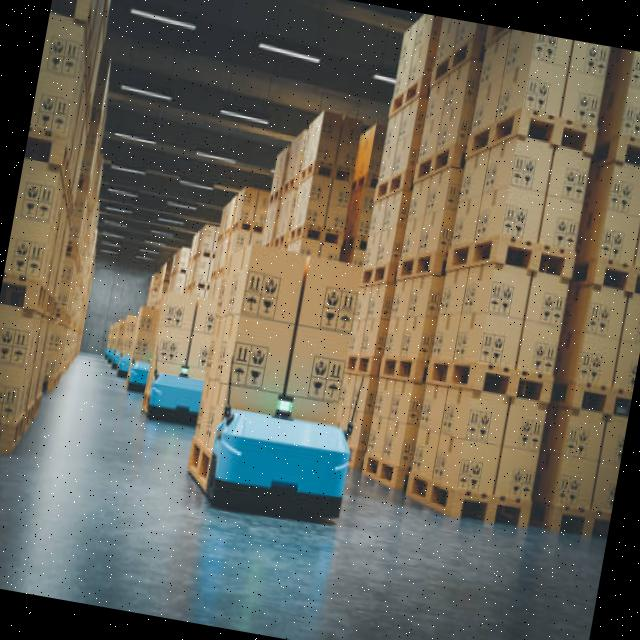Wooden-Pallets: (462, 98, 601, 180), (359, 236, 572, 285), (402, 472, 534, 530), (420, 347, 559, 396), (439, 237, 572, 287), (530, 484, 610, 549), (551, 362, 635, 408), (573, 244, 640, 301), (472, 361, 555, 405), (381, 72, 426, 125), (357, 449, 407, 496), (409, 141, 459, 184), (186, 433, 213, 502), (368, 165, 405, 213), (374, 352, 421, 387), (603, 131, 640, 174), (338, 349, 376, 380)
